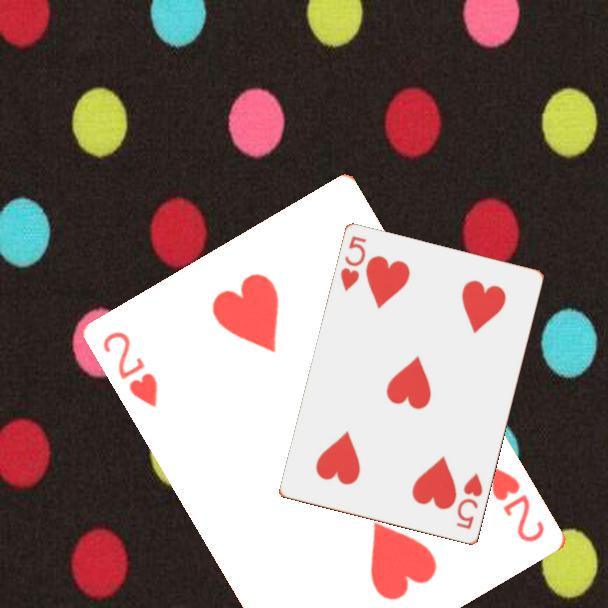h02: (100, 328, 162, 411), (488, 462, 549, 546)
h05: (453, 470, 486, 533), (337, 233, 370, 294)
